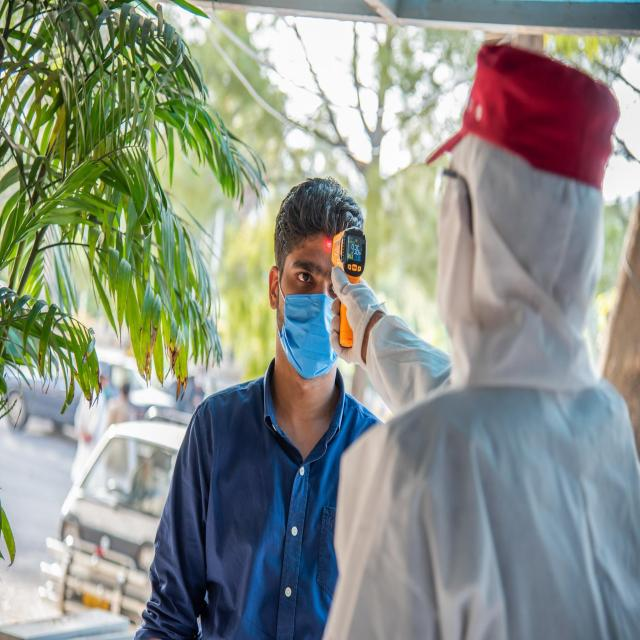Mask: (282, 291, 335, 382)
